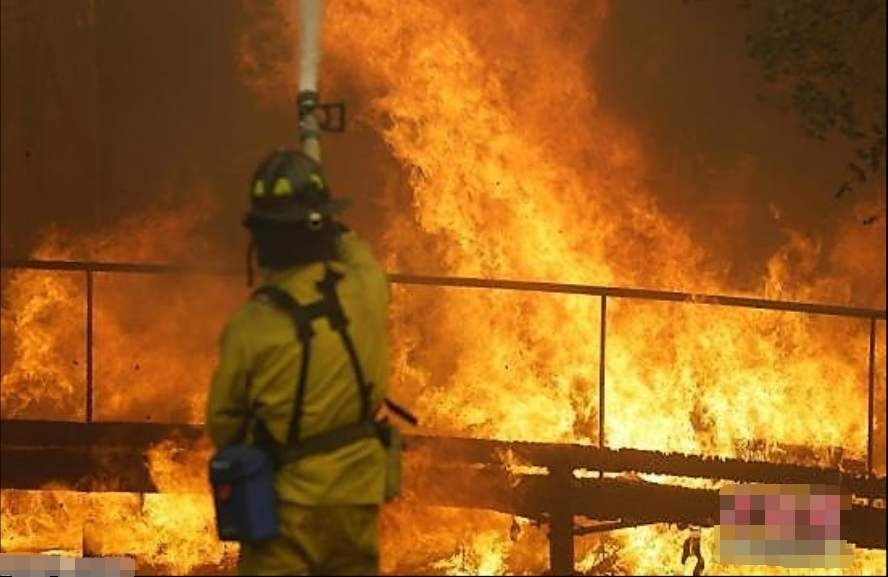fire: (395, 36, 884, 567), (0, 211, 241, 567)
